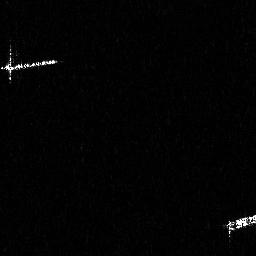ship: (1, 45, 58, 83), (223, 213, 256, 241)
